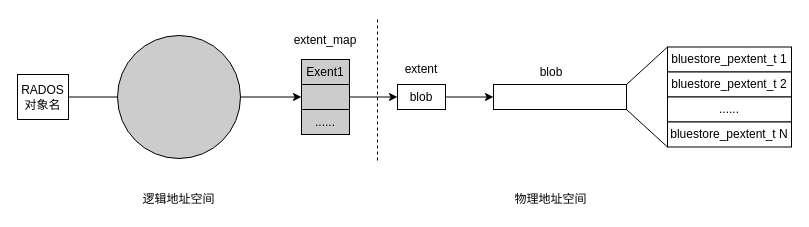
This 809x227 diagram has some shape labels left out. Here are the shapes that lost their labels. From the top down, the centre of each, then its label:
At point 178,96: "onode信息 extent_map_shards".
At point 325,97: "Exent2".
At point 559,97: "多个bluestore_pextent_t".
